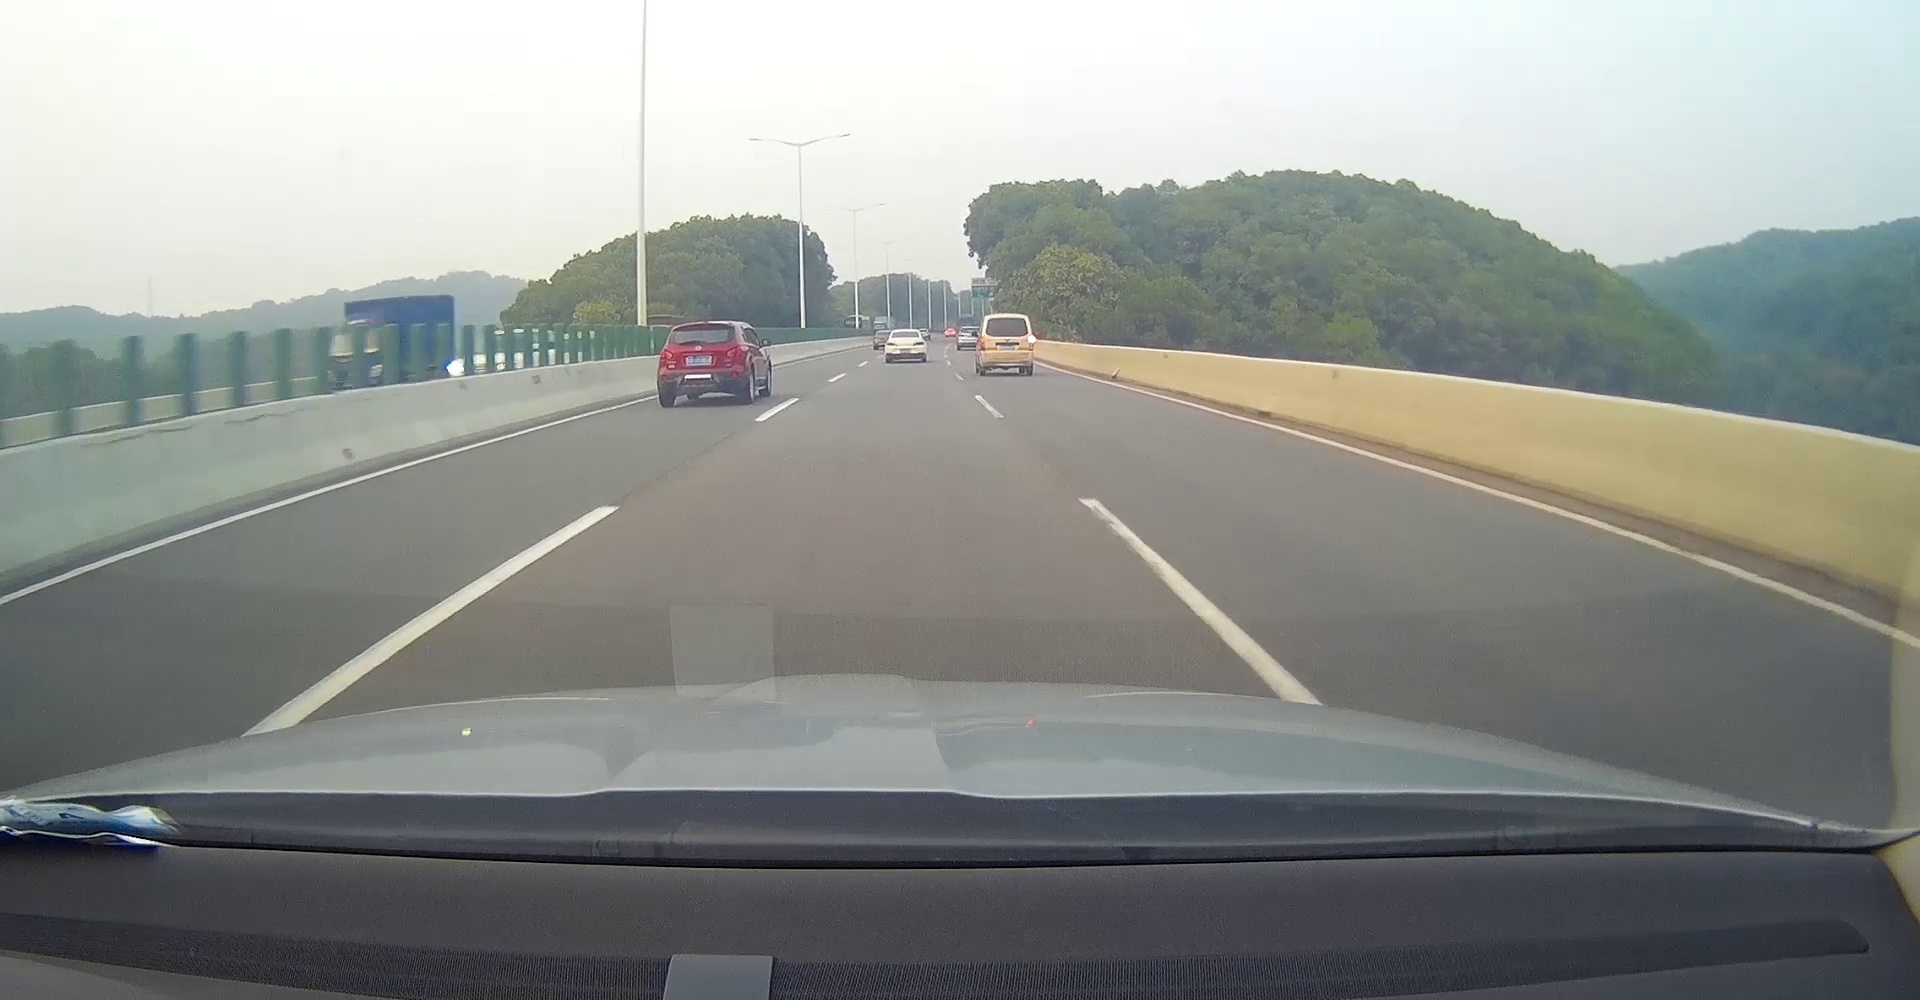L_light: (659, 348, 673, 360), (979, 338, 985, 350), (886, 341, 895, 345)
R_light: (726, 345, 748, 357), (1027, 335, 1035, 350), (916, 341, 924, 345)
T_light: (695, 324, 709, 327), (1001, 317, 1012, 320)
day-no: (657, 319, 750, 409), (883, 329, 926, 363)
day-right: (978, 312, 1035, 376)
